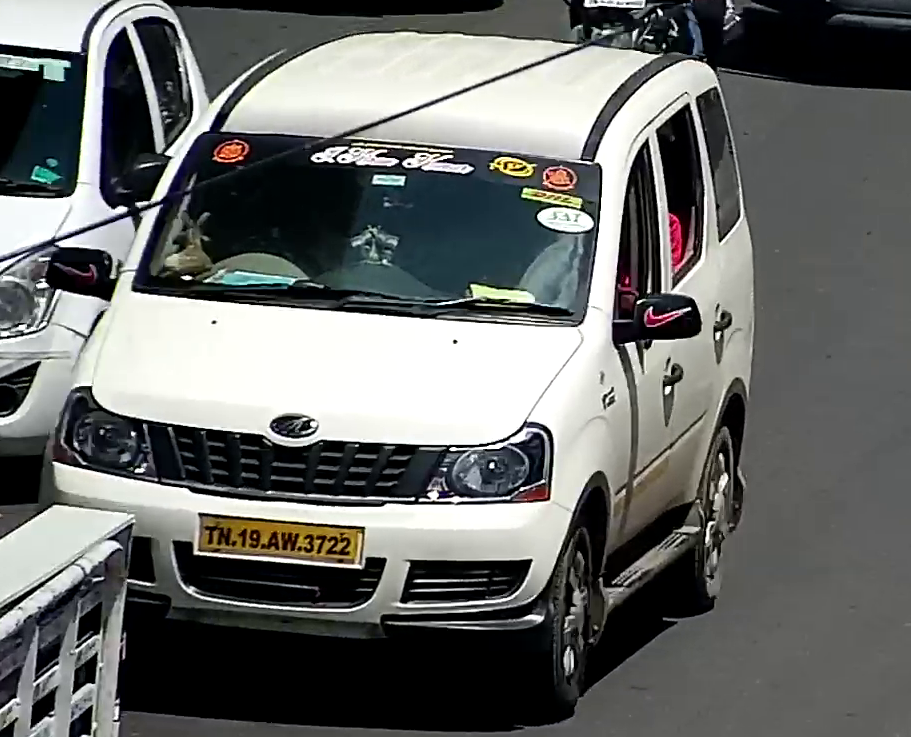.: (231, 539, 238, 547), (297, 545, 303, 553), (260, 542, 266, 549)
1: (238, 527, 247, 548)
2: (326, 534, 339, 556), (339, 535, 351, 556)
3: (303, 533, 314, 554)
7: (314, 533, 326, 555)
9: (247, 528, 260, 549)
A: (266, 530, 280, 551)
N: (217, 526, 231, 546)
P9: (196, 511, 362, 569)
T: (203, 525, 217, 545)
W: (280, 531, 297, 552)
